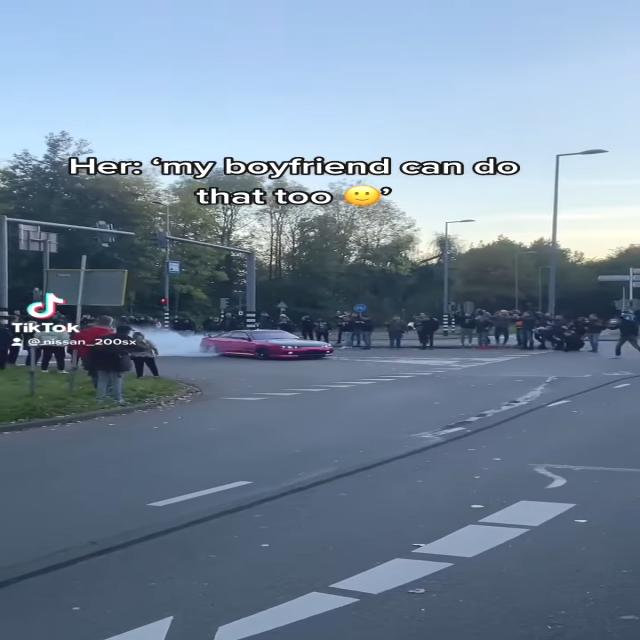car: (204, 326, 337, 365)
